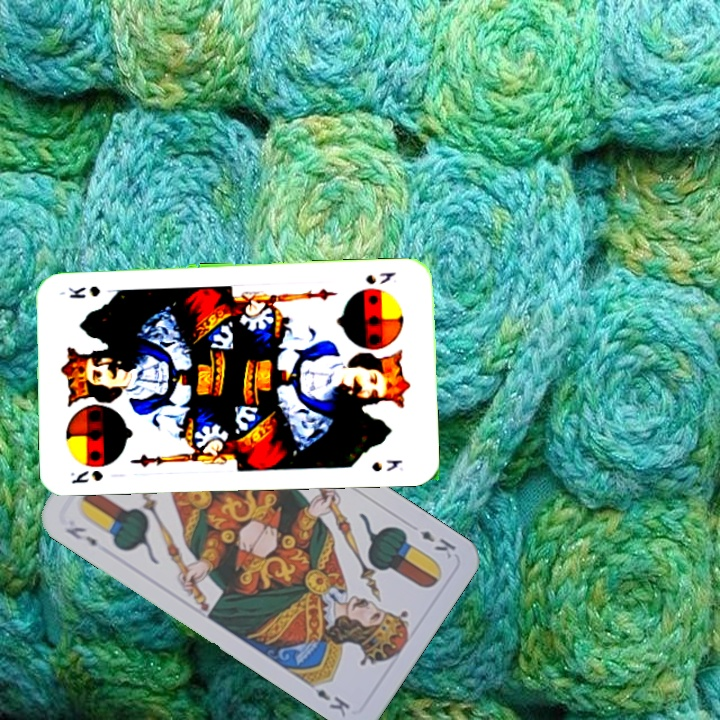EK: (416, 526, 459, 561), (61, 522, 100, 549)
SK: (66, 466, 105, 486), (362, 268, 399, 287)
